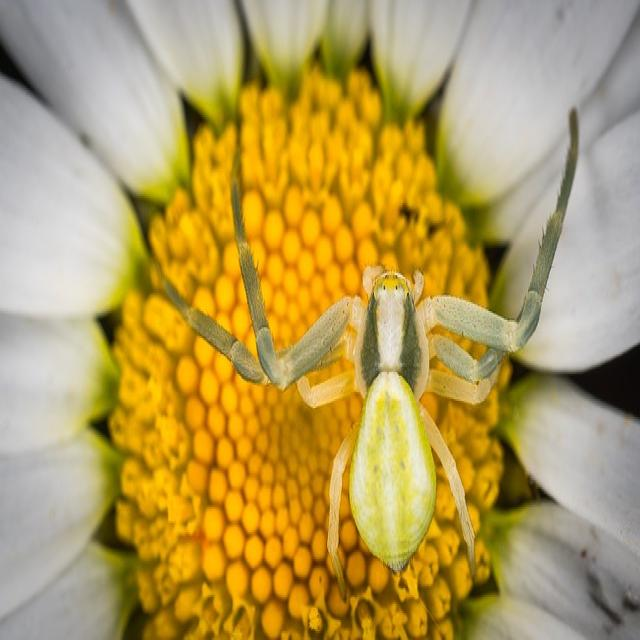spyder: (160, 110, 579, 597)
